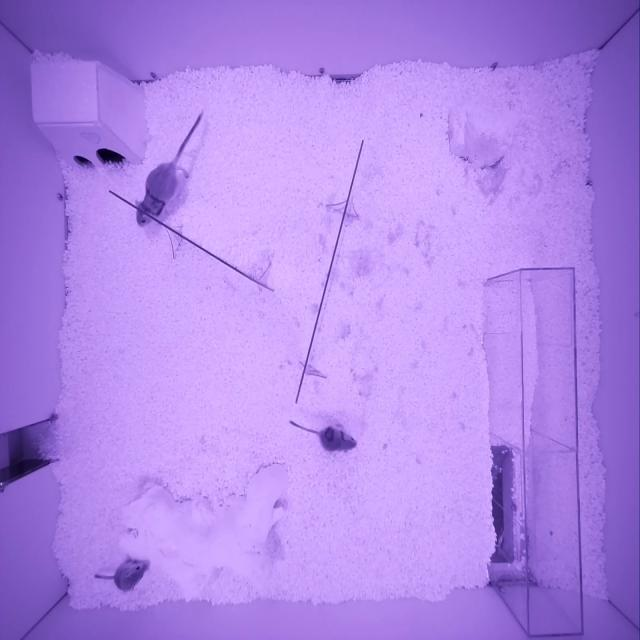adult_front: (135, 161, 180, 228)
pup_fluffy: (113, 557, 151, 592)
pup_spotted: (319, 426, 356, 453)
